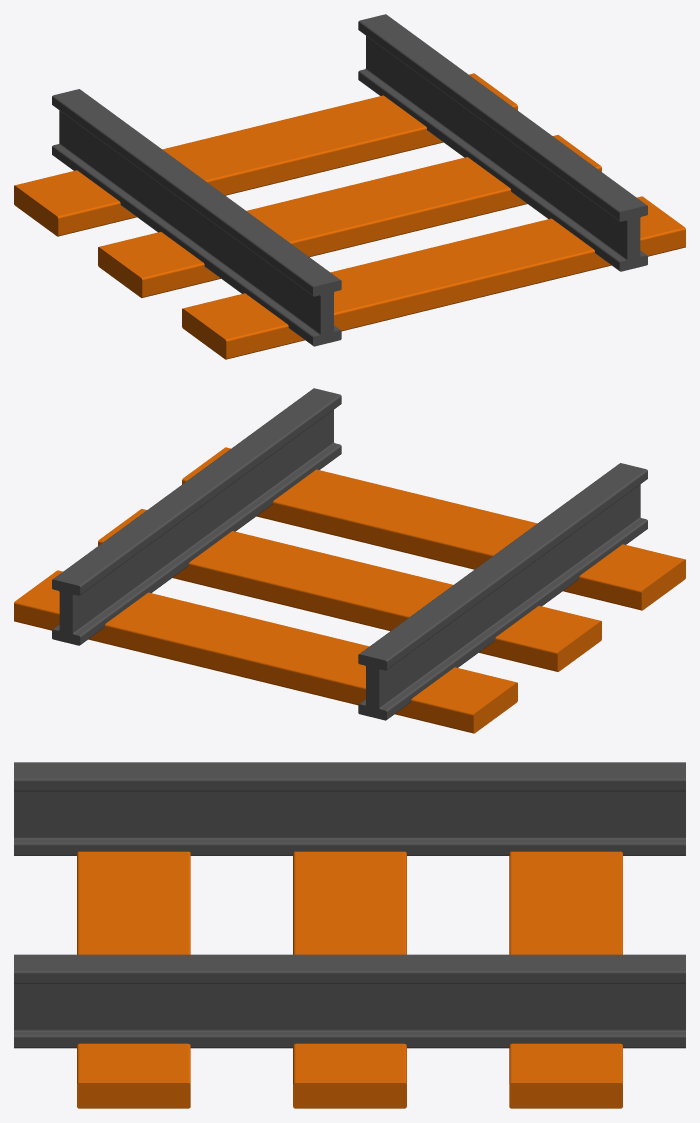
Rendered from rail.fbx.
3 views of the same model, one above another, from view 1: azimuth 30°, elevation 25°; view 2: azimuth 150°, elevation 25°; view 3: azimuth 270°, elevation 25° (orthographic). The views are drawn at different scales.
Visible parts, largest first — view 1: iron, iron.001, wood.002, wood.001, wood; view 2: iron, iron.001, wood, wood.001, wood.002; view 3: iron.001, iron, wood.001, wood, wood.002.
Part boxes in pixels (<box>): iron: <box>52,89,341,346</box>; iron.001: <box>358,14,647,271</box>; wood.002: <box>182,196,685,359</box>; wood.001: <box>98,135,601,297</box>; wood: <box>14,73,517,236</box>; iron: <box>358,463,647,720</box>; iron.001: <box>52,388,341,645</box>; wood: <box>14,570,517,733</box>; wood.001: <box>98,509,601,671</box>; wood.002: <box>182,447,685,610</box>; iron.001: <box>14,954,685,1048</box>; iron: <box>14,762,685,855</box>; wood.001: <box>293,851,406,1108</box>; wood: <box>509,851,622,1108</box>; wood.002: <box>77,851,190,1108</box>.
Bounding box in the file's own units: 1.2 × 0.1898 × 1.18.
